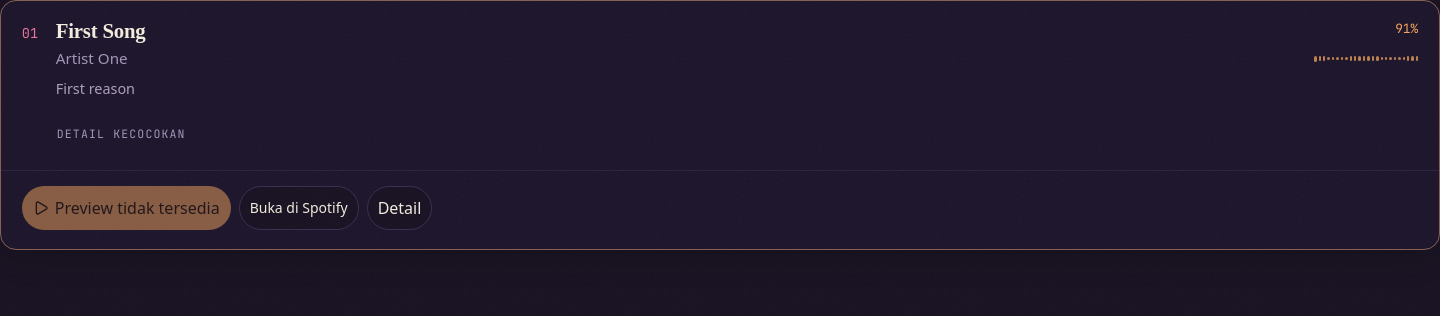
Test case: SongCard › keeps secondary metadata collapsed, scores it when disclosed, and uses 44px controls
Expected: the button "Preview tidak tersedia" is disabled, [22,186,231,230]
Expected: the text "energy" is not shown
Click the button "Detail kecocokan". click: x=121, y=134
box: [56,112,187,156]
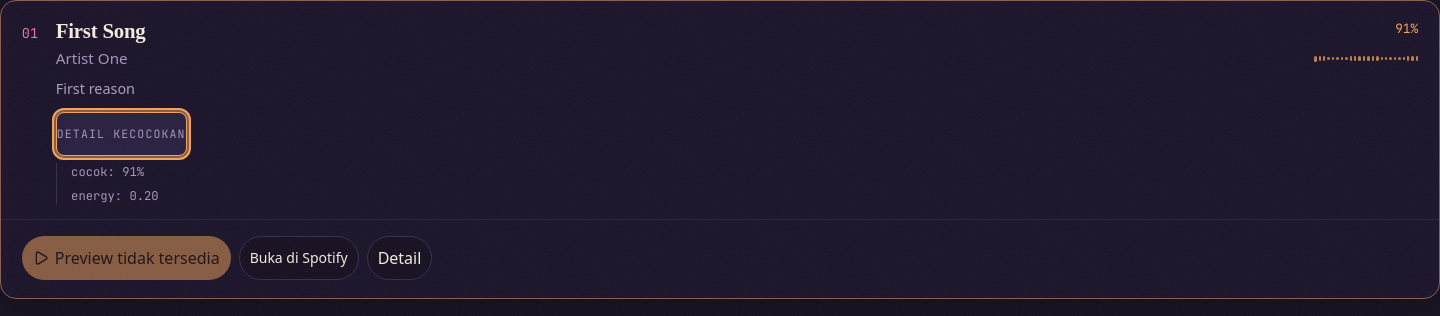
Expected: the text "cocok: 91%" is shown, [71,164,144,180]
